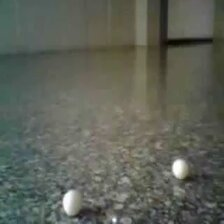w: (62, 189, 84, 217), (171, 158, 189, 180)
